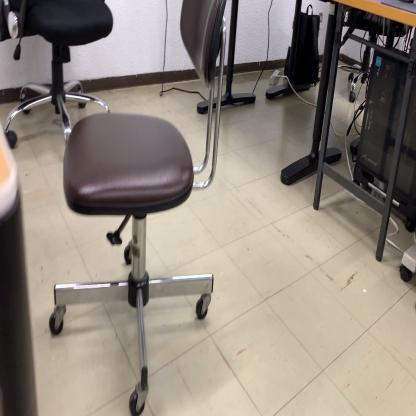chair: (49, 0, 229, 413), (2, 0, 113, 151)
